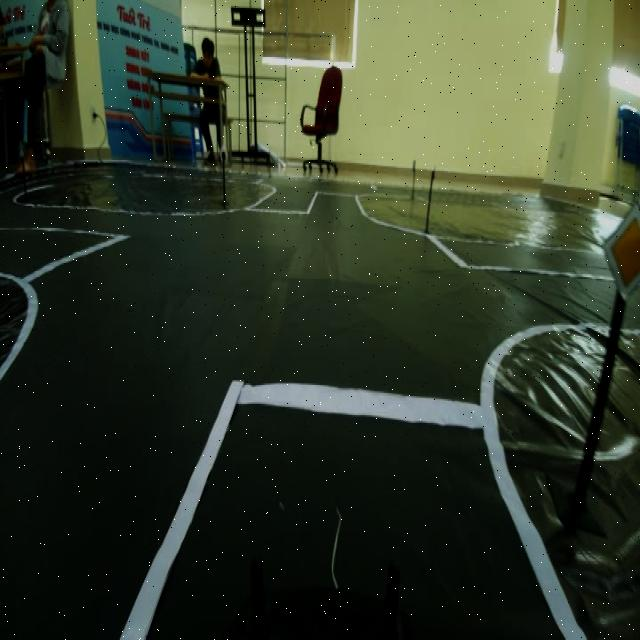priority: (597, 200, 640, 301)
